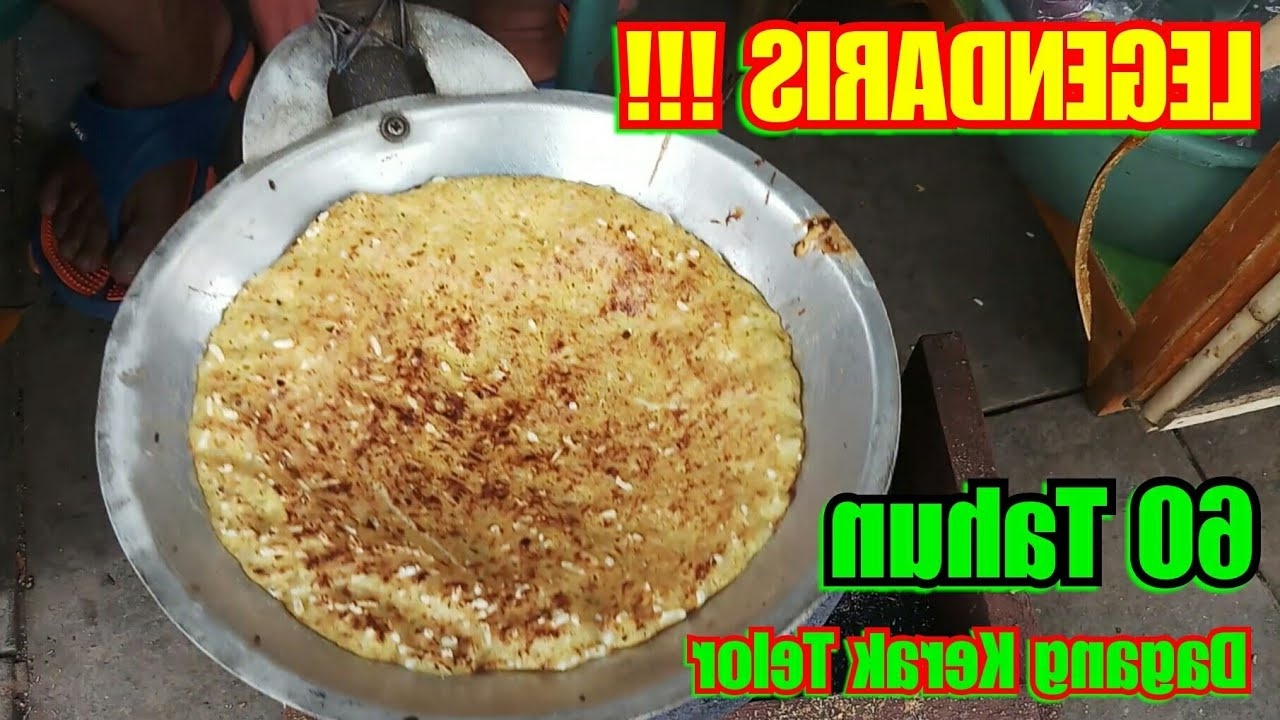kerak_telor: (187, 171, 808, 681)
